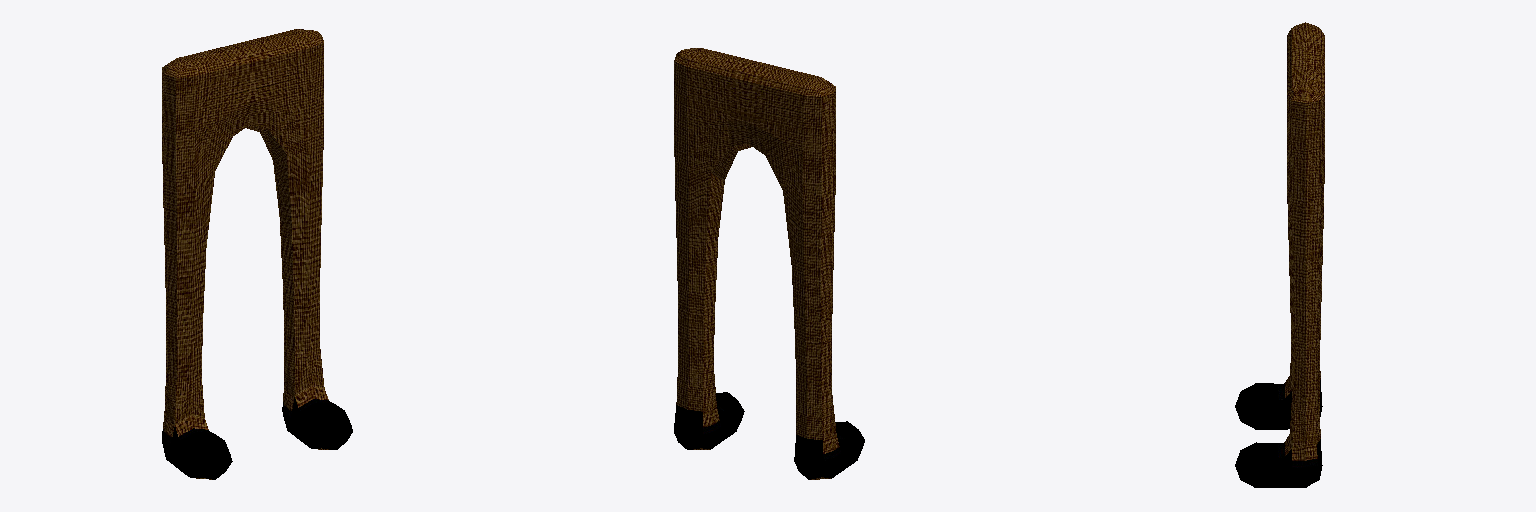
3 views of the same model, side by side, from view 1: azimuth 30°, elevation 25°; view 2: azimuth 150°, elevation 25°; view 3: azimuth 270°, elevation 25° (orthographic).
Visible parts, largest first — view 1: Cube.003_Cube.005; view 2: Cube.003_Cube.005; view 3: Cube.003_Cube.005.
Part boxes in pixels (left/top/right/bottom): Cube.003_Cube.005: left=162, top=29, right=352, bottom=479; Cube.003_Cube.005: left=674, top=48, right=864, bottom=479; Cube.003_Cube.005: left=1235, top=22, right=1324, bottom=487.
Size of the model in its own units: 0.2175 by 0.499 by 0.1019.
Materials: 1 (1 with a texture image).